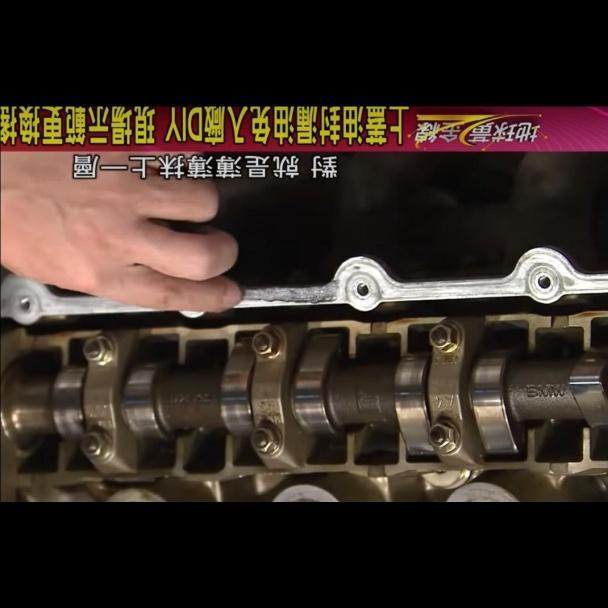hole: (532, 271, 552, 289), (354, 282, 369, 298)
